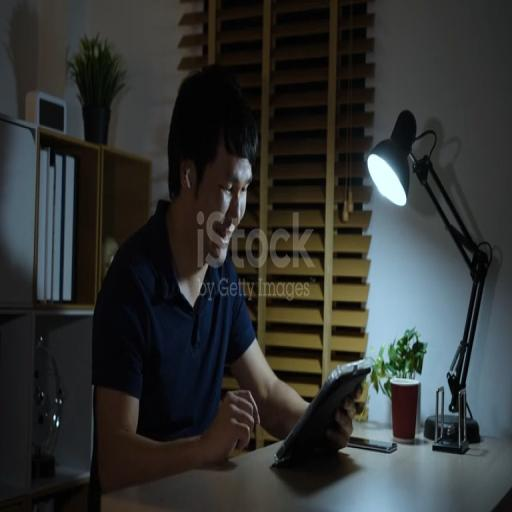earphone: (184, 167, 193, 195)
